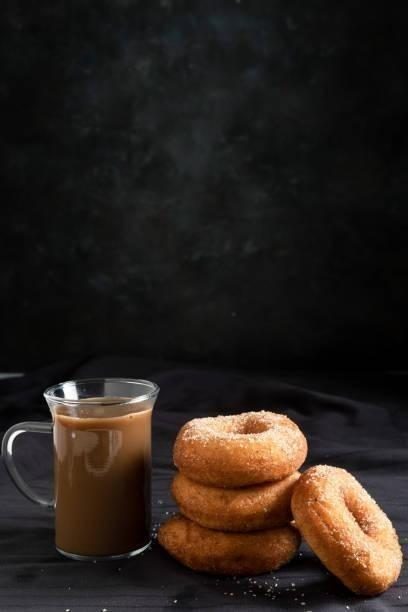glass-mug: (1, 375, 161, 566)
